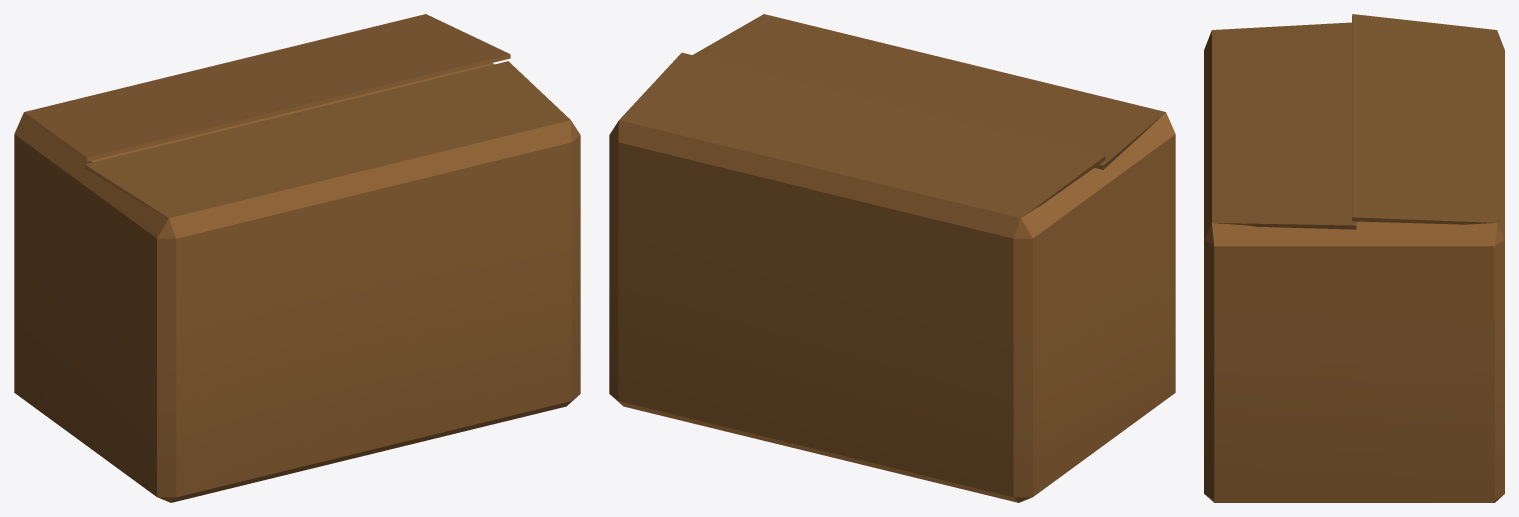
File: Cardboard Box.fbx
3 renders of one model, left to right at view 1: azimuth 30°, elevation 25°; view 2: azimuth 150°, elevation 25°; view 3: azimuth 270°, elevation 25°, orthographic.
Parts seen in each view (by area): view 1: Cube.001; view 2: Cube.001; view 3: Cube.001.
Boxes of the visible parts, box(x1,y1,x2,y2) form: Cube.001: box(14, 14, 580, 502); Cube.001: box(609, 14, 1175, 502); Cube.001: box(1204, 14, 1504, 502).
Bounding box in the file's own units: 320 × 215 × 200.
Materials: 1 (1 with a texture image).
